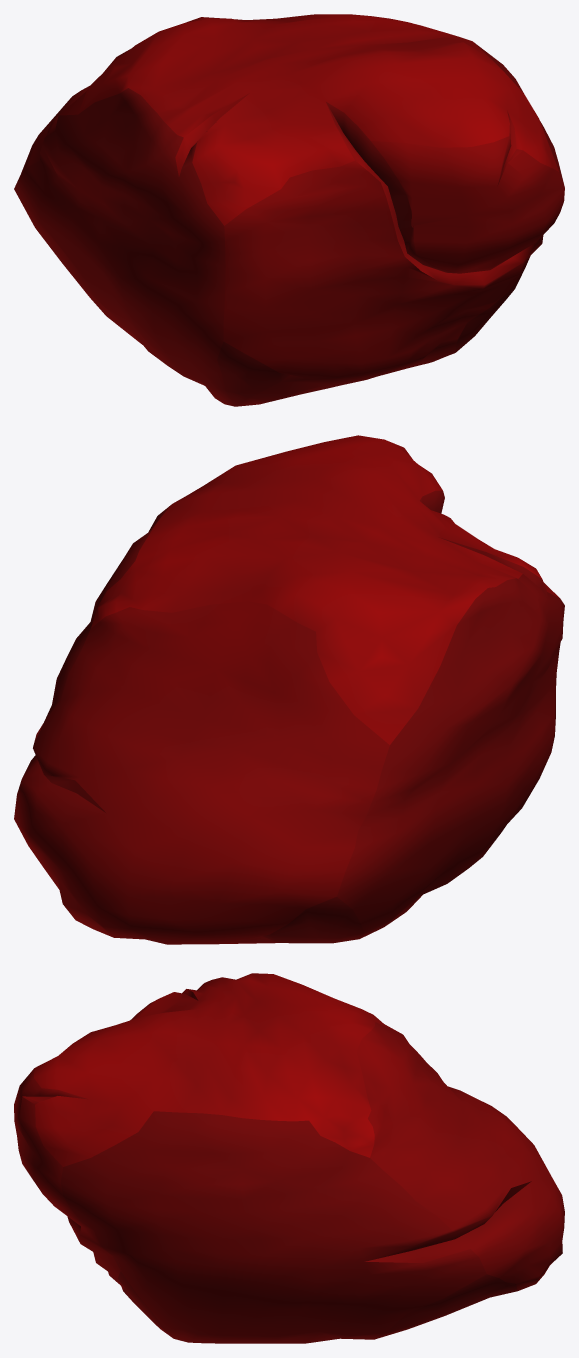
The model's file is geology-rocks-rockhuge_v1.fbx.
3 views of the same model, one above another, from view 1: azimuth 30°, elevation 25°; view 2: azimuth 150°, elevation 25°; view 3: azimuth 270°, elevation 25° (orthographic). The views are drawn at different scales.
Visible parts, largest first — view 1: RockHuge_v1; view 2: RockHuge_v1; view 3: RockHuge_v1.
Part boxes in pixels (box(x1,y1,x2,y2)): RockHuge_v1: box(14, 14, 564, 406); RockHuge_v1: box(14, 435, 564, 944); RockHuge_v1: box(14, 973, 564, 1343).
Bounding box in the file's own units: 24.71 × 20.23 × 34.95.
